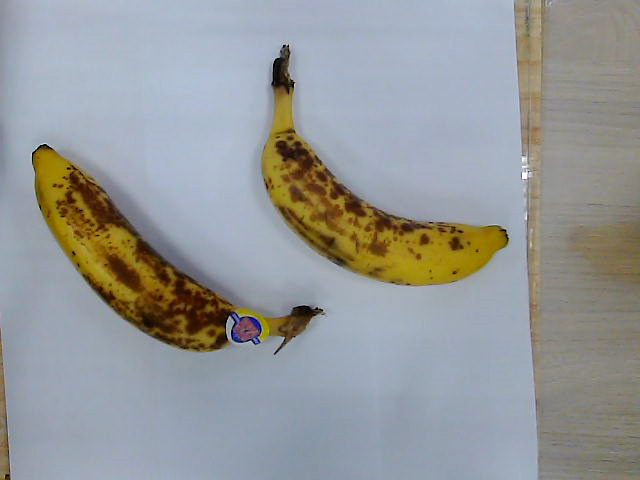rotten_banana: (32, 141, 317, 353), (259, 46, 509, 287)
